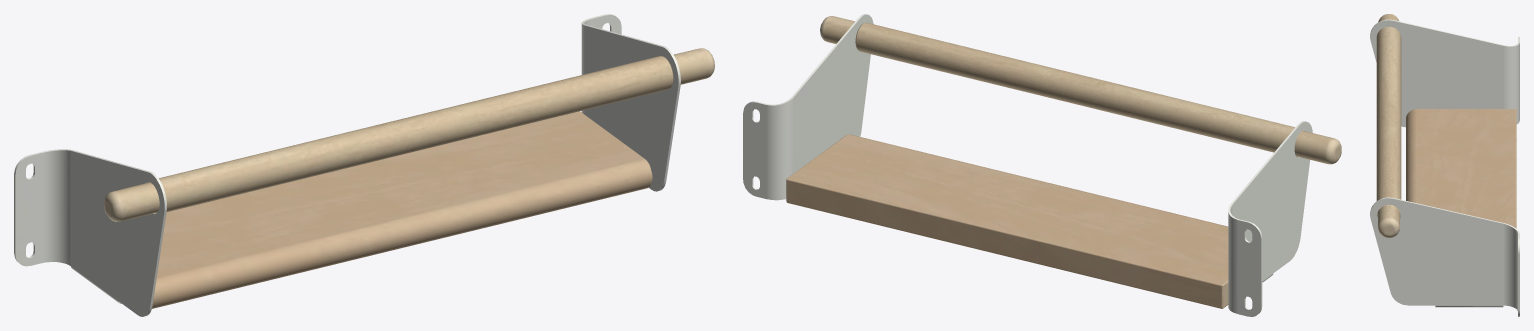
3 renders of one model, left to right at view 1: azimuth 30°, elevation 25°; view 2: azimuth 150°, elevation 25°; view 3: azimuth 270°, elevation 25°, orthographic. The views are drawn at different scales.
Parts seen in each view (by area): view 1: 90465924-NEREBY001; view 2: 90465924-NEREBY001; view 3: 90465924-NEREBY001.
Boxes of the visible parts, x1=… form: 90465924-NEREBY001: x1=14, y1=14, x2=714, y2=316; 90465924-NEREBY001: x1=743, y1=14, x2=1341, y2=316; 90465924-NEREBY001: x1=1370, y1=14, x2=1519, y2=316.
Size of the model in its own units: 0.403 by 0.1014 by 0.1215.
Materials: 1 (1 with a texture image).
